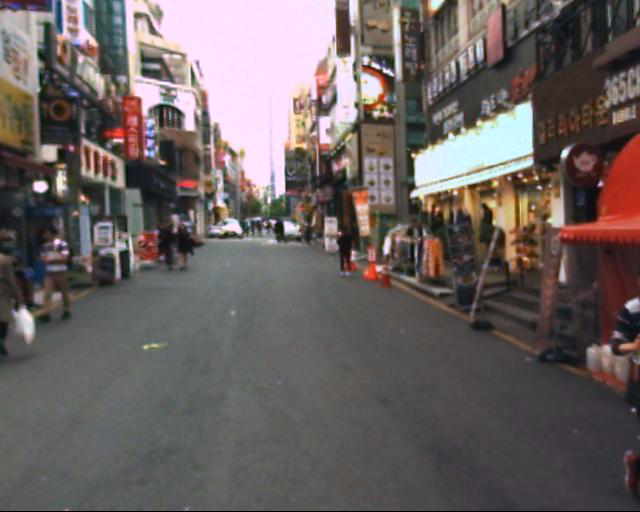person: (594, 265, 640, 495), (1, 211, 36, 359), (39, 215, 81, 336), (147, 202, 178, 283), (170, 204, 197, 282), (328, 221, 358, 285)
